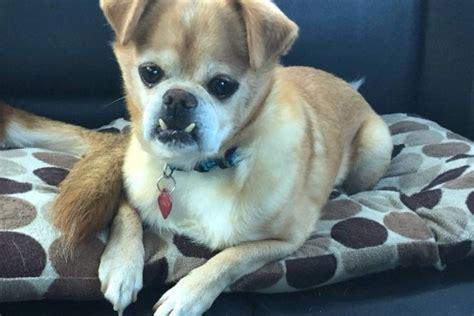dog: (101, 1, 390, 316)
